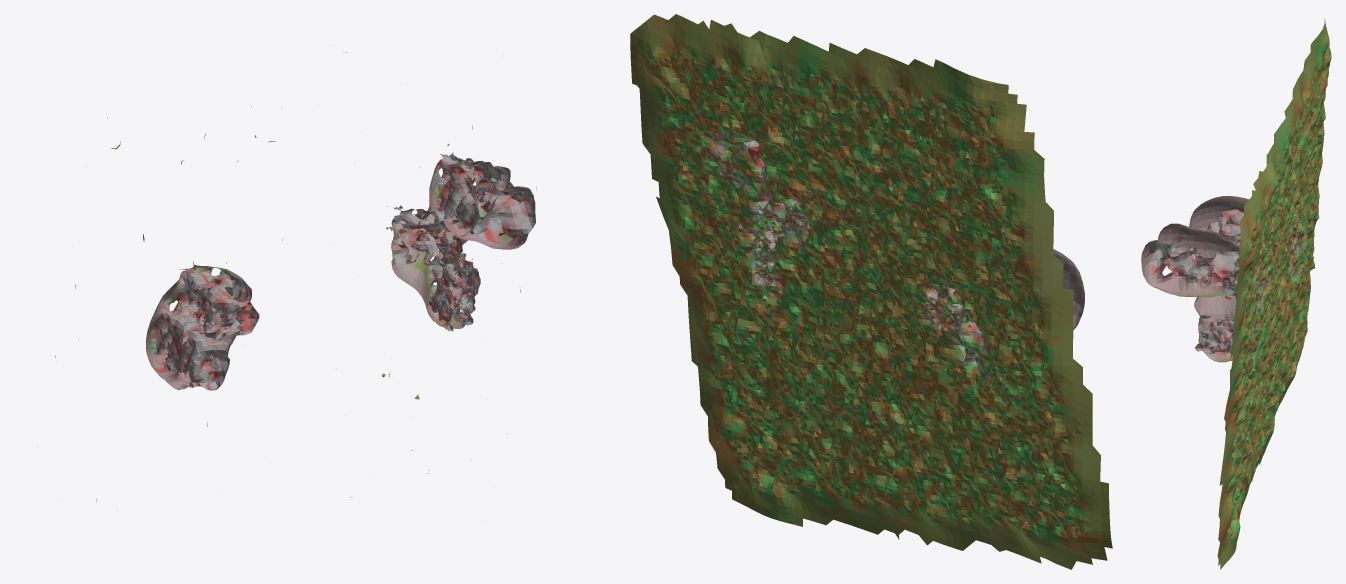
3 renders of one model, left to right at view 1: azimuth 30°, elevation 25°; view 2: azimuth 150°, elevation 25°; view 3: azimuth 270°, elevation 25°, orthographic. The views are drawn at different scales.
Visible parts, largest first — view 1: geometry_0; view 2: geometry_0; view 3: geometry_0.
Boxes of the visible parts, box(x1,y1,x2,y2) form: geometry_0: box(55, 52, 536, 510); geometry_0: box(630, 14, 1112, 569); geometry_0: box(1141, 18, 1331, 569).
Size of the model in its own units: 1363 by 1362 by 553.
